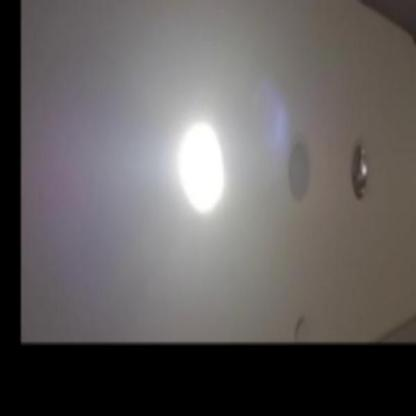light_off: (341, 124, 379, 216)
